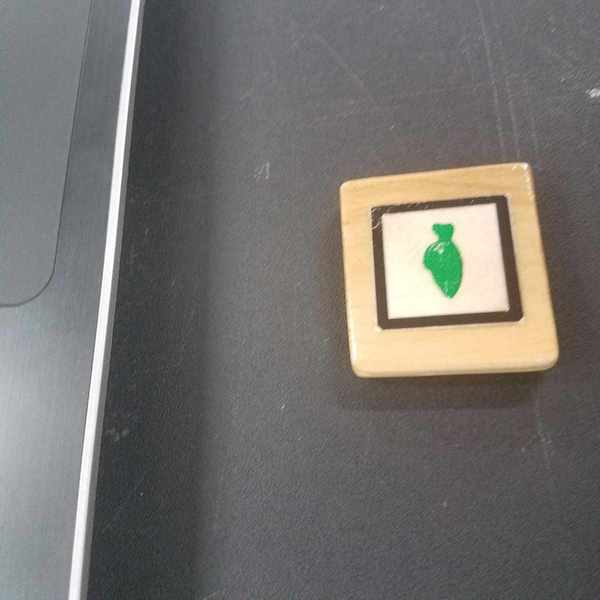Fish Tiles: (370, 204, 522, 324)
